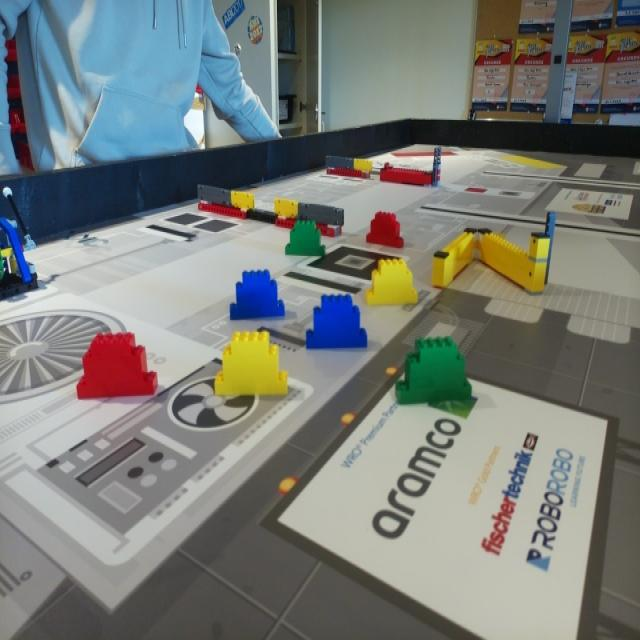blau: (306, 292, 366, 349), (229, 269, 285, 318)
gruen: (398, 334, 474, 408), (286, 220, 325, 256)
rot: (76, 330, 158, 400), (366, 211, 403, 249)
yellow: (218, 329, 290, 394), (366, 259, 418, 306)
